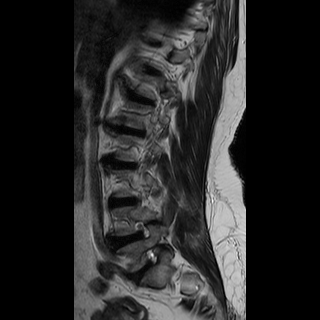RFS1: (128, 217, 153, 245)
